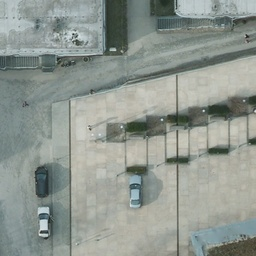car: (127, 173, 142, 207), (36, 206, 51, 237), (34, 164, 48, 197)
